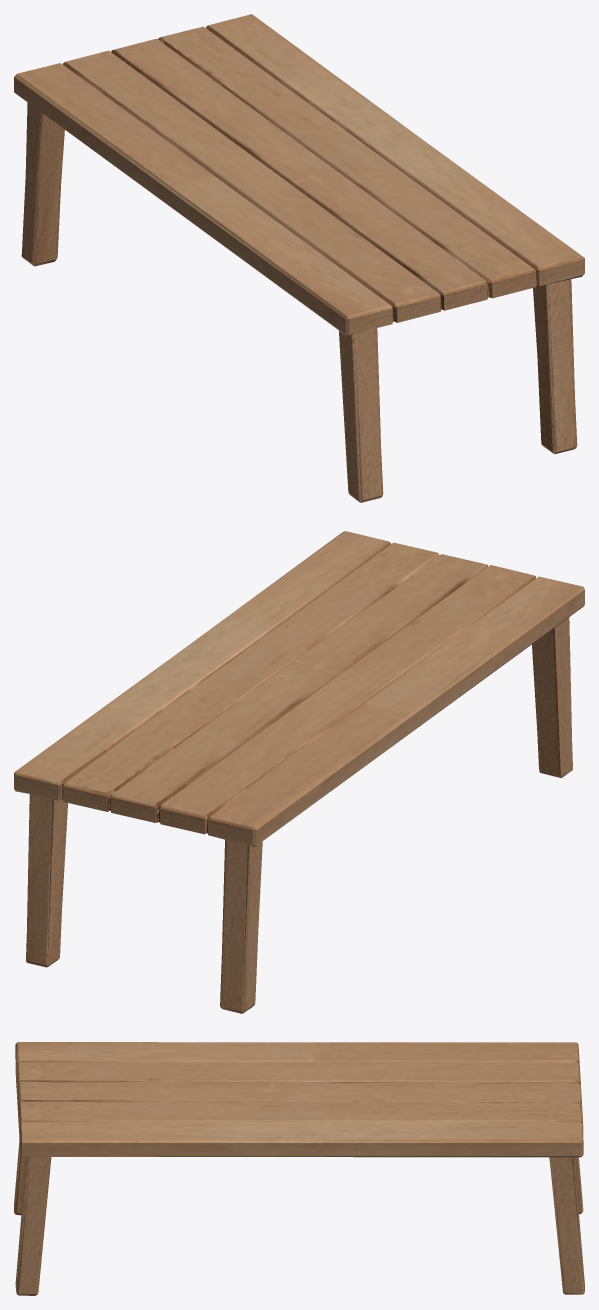
File: wooden_table_M.fbx
3 renders of one model, top to bottom at view 1: azimuth 30°, elevation 25°; view 2: azimuth 150°, elevation 25°; view 3: azimuth 270°, elevation 25°, orthographic. The views are drawn at different scales.
Parts seen in each view (by area): view 1: Object002; view 2: Object002; view 3: Object002.
Part boxes in pixels (left/top/right/bottom): Object002: left=14, top=14, right=584, bottom=502; Object002: left=14, top=531, right=584, bottom=1013; Object002: left=14, top=1042, right=584, bottom=1295.
Bounding box in the file's own units: 0.4166 × 0.3105 × 1.01.
